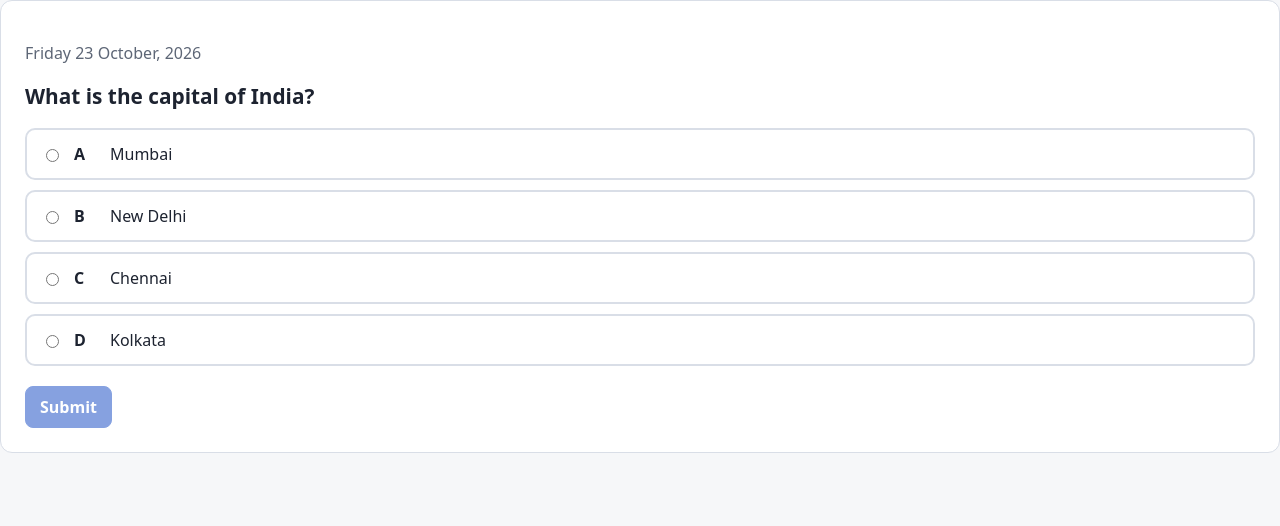
Test case: Quiz › marks an incorrect choice and gently shows the correct answer
Click the radio button labelled "D Kolkata" at (52, 342), box 46,335 -> 59,348
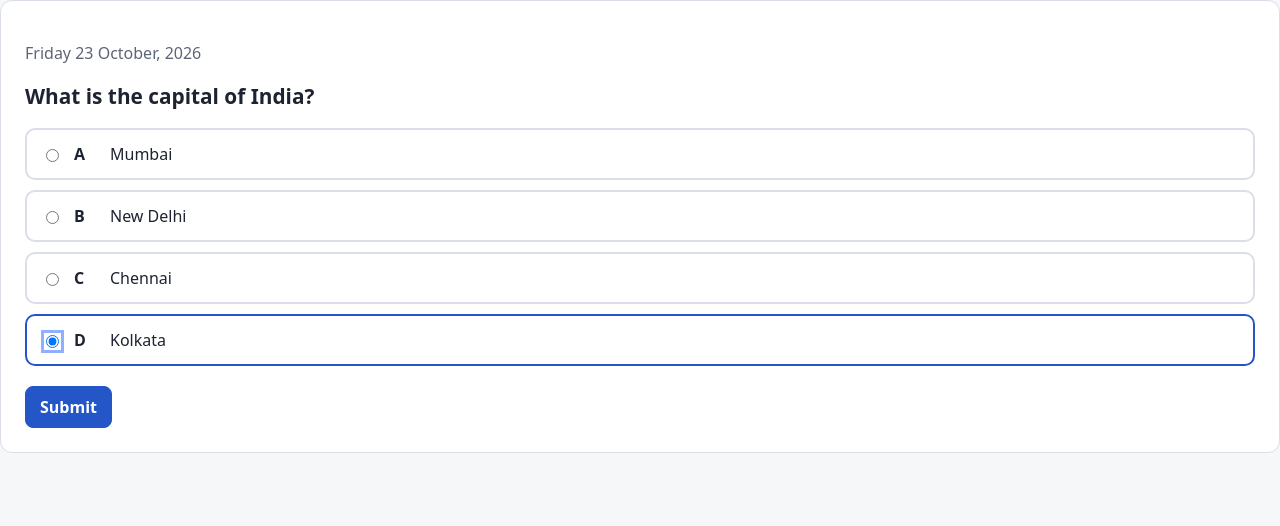
Click the button "Submit" at (68, 407), box 25,386 -> 112,428
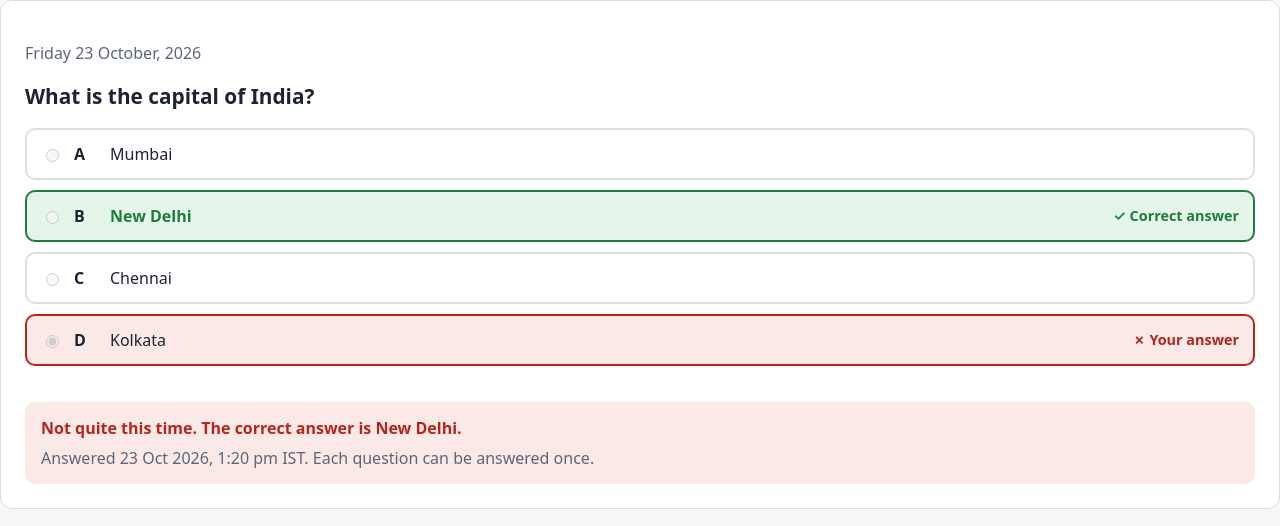
Now the text "Not quite this time. The correct answer is New Delhi." is shown, box 41,417 -> 462,439
Now the text "✗ Your answer" is shown, box 1133,329 -> 1239,351
